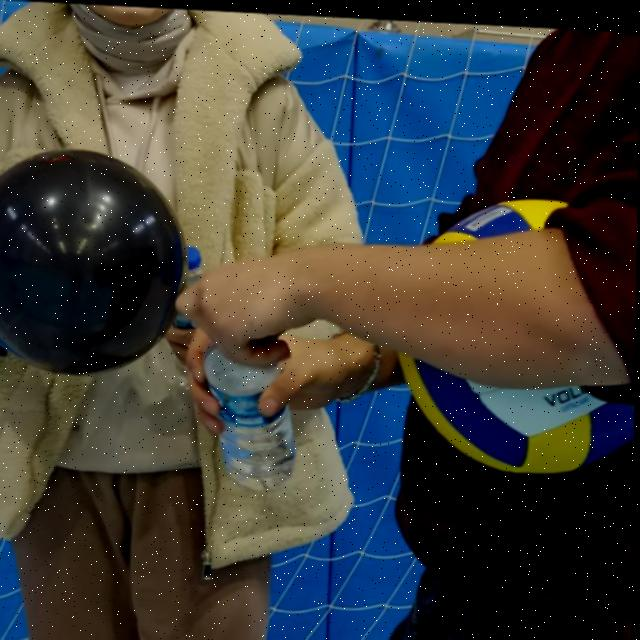balloon: (0, 146, 187, 381)
